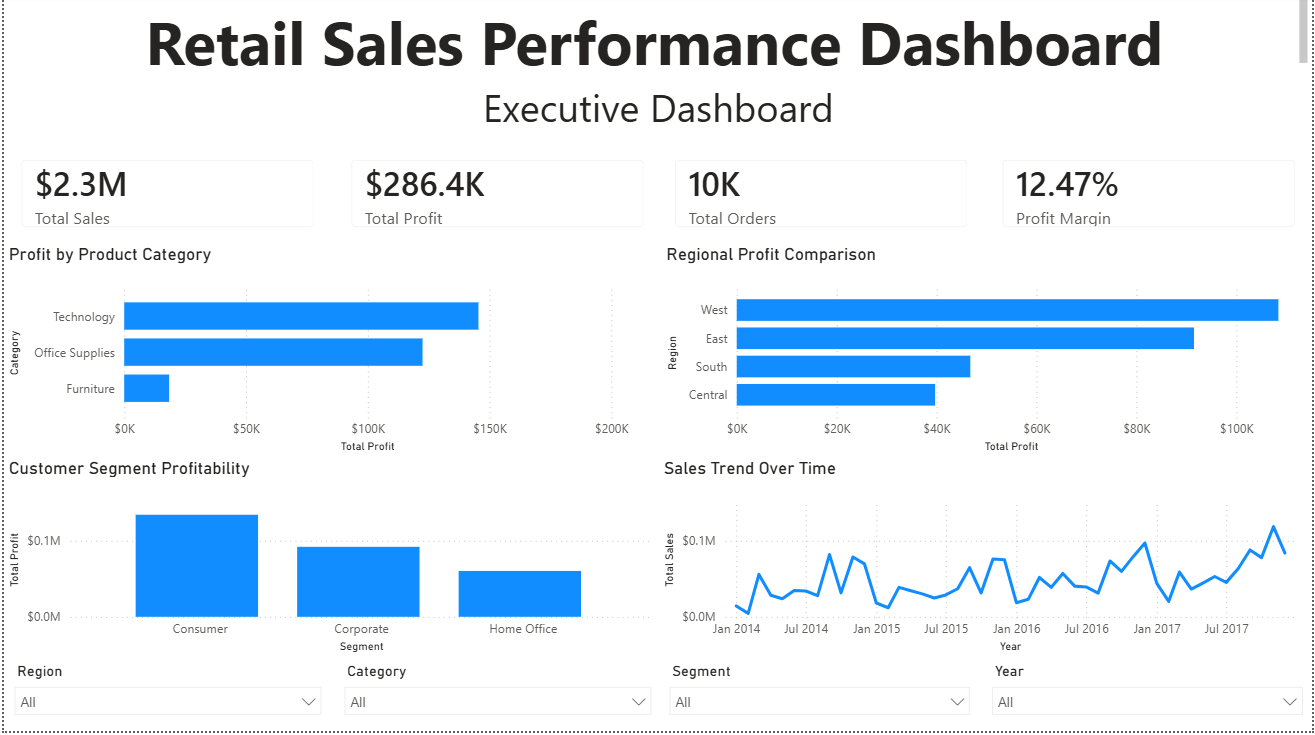

Layout of this report page (visuals, bound fields, positions):
{"tool":"powerbi","page":{"name":"Executive Dashboard","canvas":[1280,720],"ordinal":0},"visuals":[{"type":"cardVisual","fields":{"Data":["Sample - Superstore.Total Sales"]},"box":[0,144.1,320,100],"z":0},{"type":"cardVisual","fields":{"Data":["Sample - Superstore.Total Profit"]},"box":[322.6,144.1,320,100],"z":1},{"type":"cardVisual","fields":{"Data":["Sample - Superstore.Total Orders"]},"box":[639.2,144.1,320,100],"z":2},{"type":"cardVisual","fields":{"Data":["Sample - Superstore.Profit Margin"]},"box":[959.8,144.1,320,100],"z":3},{"type":"clusteredBarChart","title":"Profit by Product Category","fields":{"Category":["Sample - Superstore.Category"],"Y":["Sample - Superstore.Total Profit"]},"box":[0,243.3,616.3,209.1],"z":4},{"type":"clusteredBarChart","title":"Regional Profit Comparison","fields":{"Category":["Sample - Superstore.Region"],"Y":["Sample - Superstore.Total Profit"]},"box":[643.2,243.3,633.4,209.1],"z":5},{"type":"clusteredColumnChart","title":"Customer Segment Profitability","fields":{"Category":["Sample - Superstore.Segment"],"Y":["Sample - Superstore.Total Profit"]},"box":[0,452.4,639.5,195.7],"z":6},{"type":"lineChart","title":"Sales Trend Over Time","fields":{"Category":["Date.Date.Variation.Date Hierarchy.Year","Date.Date.Variation.Date Hierarchy.Month"],"Y":["Sample - Superstore.Total Sales"]},"box":[640.8,452.4,639.5,195.7],"z":7},{"type":"slicer","fields":{"Values":["Sample - Superstore.Region"]},"box":[0,648.1,320.4,72.1],"z":8},{"type":"slicer","fields":{"Values":["Sample - Superstore.Category"]},"box":[322.8,648.1,320.4,72.1],"z":9},{"type":"slicer","fields":{"Values":["Sample - Superstore.Segment"]},"box":[640.8,648.1,314.3,72.1],"z":10},{"type":"slicer","fields":{"Values":["Date.Year"]},"box":[956.3,648.1,324.1,72.1],"z":11},{"type":"textbox","box":[0,0,1280.4,79.1],"z":12},{"type":"textbox","box":[0,79.1,1280.4,64.9],"z":13}]}

Visuals, with their boxes in screenshot pixels (x1, y1, x2, y2), scaled from the page's 1280x720 canvas onto the 1315x735 screenshot:
cardVisual - Sample - Superstore.Total Sales: [x1=0, y1=147, x2=329, y2=249]
cardVisual - Sample - Superstore.Total Profit: [x1=331, y1=147, x2=660, y2=249]
cardVisual - Sample - Superstore.Total Orders: [x1=657, y1=147, x2=985, y2=249]
cardVisual - Sample - Superstore.Profit Margin: [x1=986, y1=147, x2=1314, y2=249]
"Profit by Product Category" clusteredBarChart: [x1=0, y1=248, x2=633, y2=462]
"Regional Profit Comparison" clusteredBarChart: [x1=661, y1=248, x2=1312, y2=462]
"Customer Segment Profitability" clusteredColumnChart: [x1=0, y1=462, x2=657, y2=662]
"Sales Trend Over Time" lineChart: [x1=658, y1=462, x2=1314, y2=662]
slicer - Sample - Superstore.Region: [x1=0, y1=662, x2=329, y2=734]
slicer - Sample - Superstore.Category: [x1=332, y1=662, x2=661, y2=734]
slicer - Sample - Superstore.Segment: [x1=658, y1=662, x2=981, y2=734]
slicer - Date.Year: [x1=982, y1=662, x2=1314, y2=734]
textbox: [x1=0, y1=0, x2=1314, y2=81]
textbox: [x1=0, y1=81, x2=1314, y2=147]
